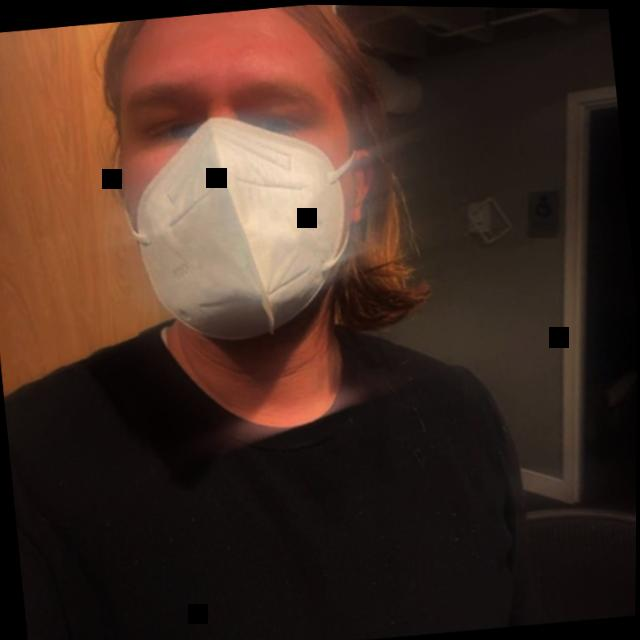Mask: (70, 1, 438, 372)
